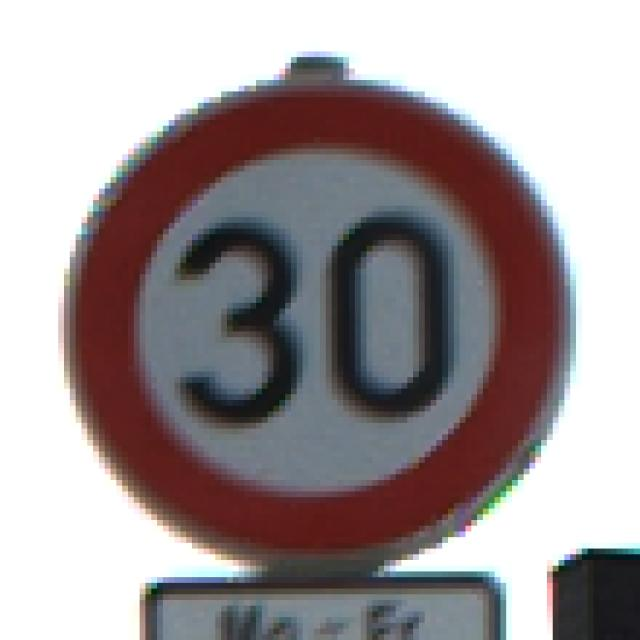Speed Limit -30-: (49, 54, 585, 586)
